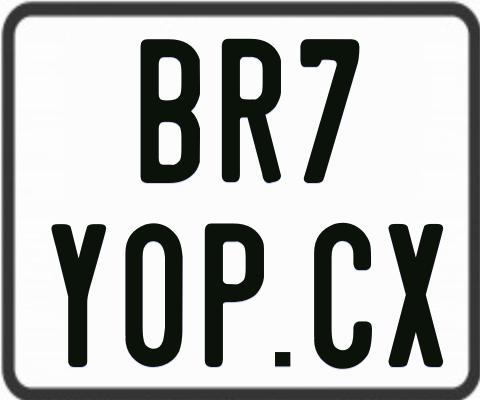0: (125, 222, 183, 366)
7: (297, 39, 360, 183)
B: (140, 37, 200, 184)
C: (313, 223, 375, 371)
P: (204, 223, 264, 366)
R: (219, 37, 280, 185)
X: (389, 222, 444, 370)
Y: (51, 223, 112, 366)
